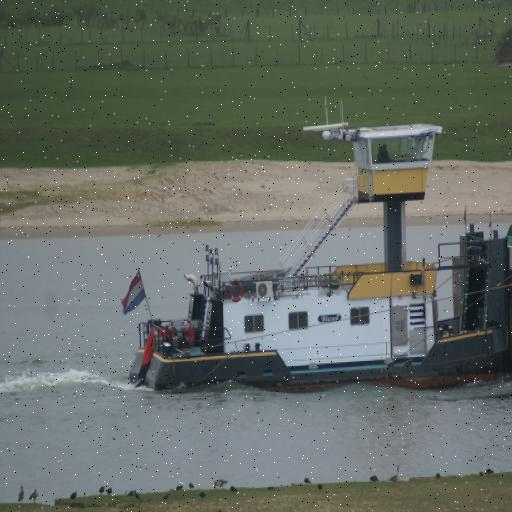tugboat: (125, 115, 512, 407)
